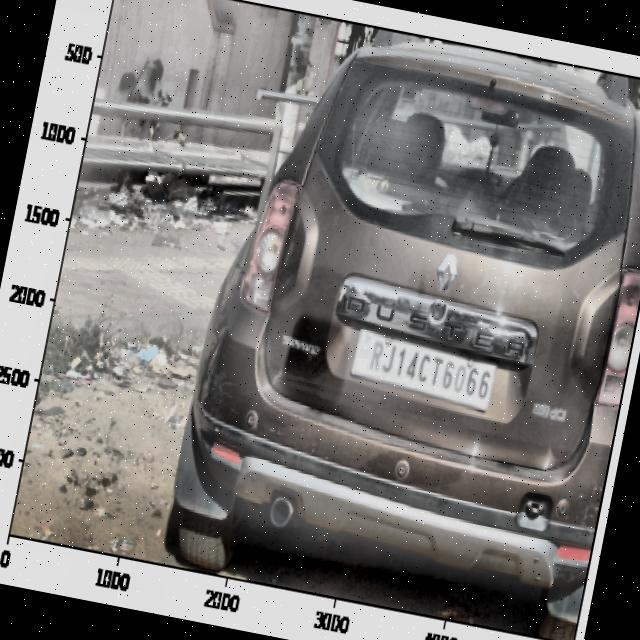license_plate: (356, 326, 501, 416)
